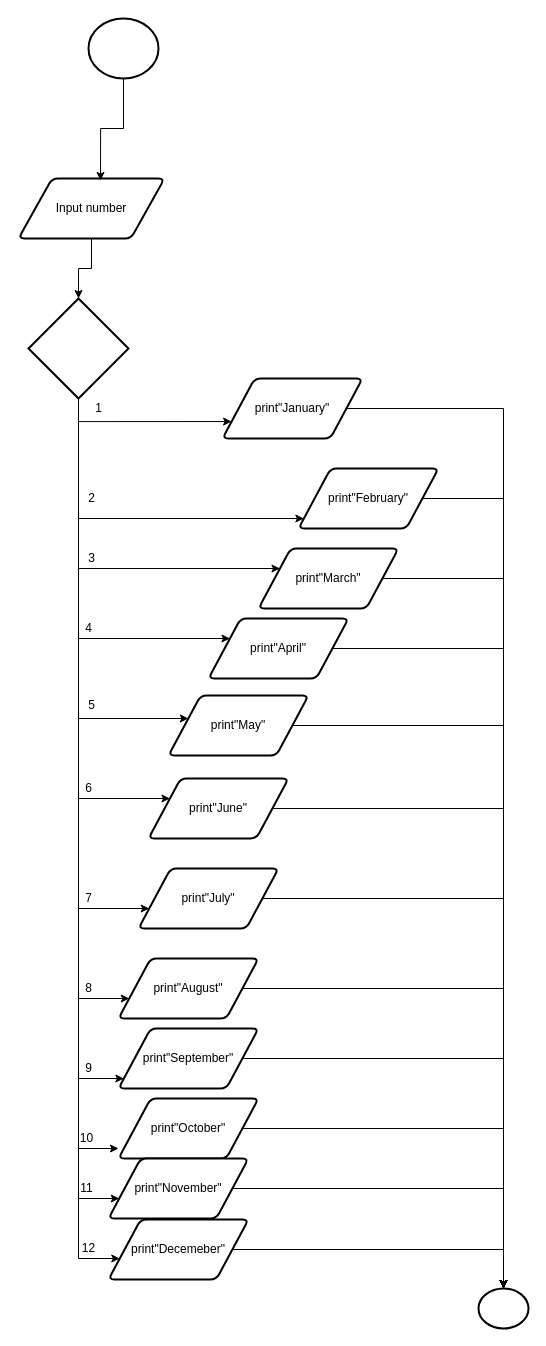
Image size: 546x1346. Some labels were removed from this diagram. The shapes that lost their labels are listed below. From the top down, each one's box as (x1, y1, x2, y2) in pixels, then its label:
(87, 17, 159, 79): Start
(27, 297, 129, 399): month
(477, 1287, 529, 1329): Stop
